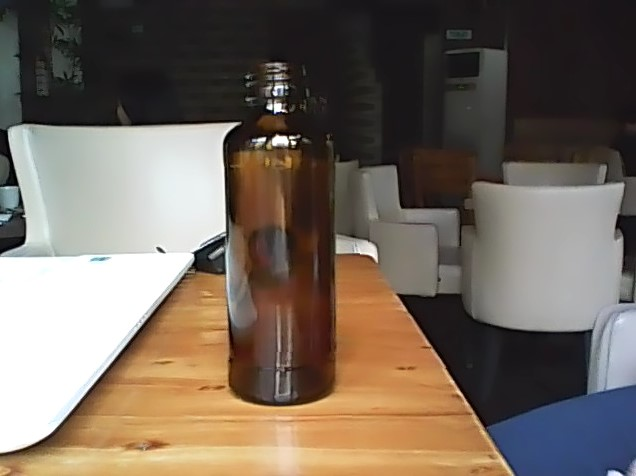Glass: (222, 60, 343, 408)
